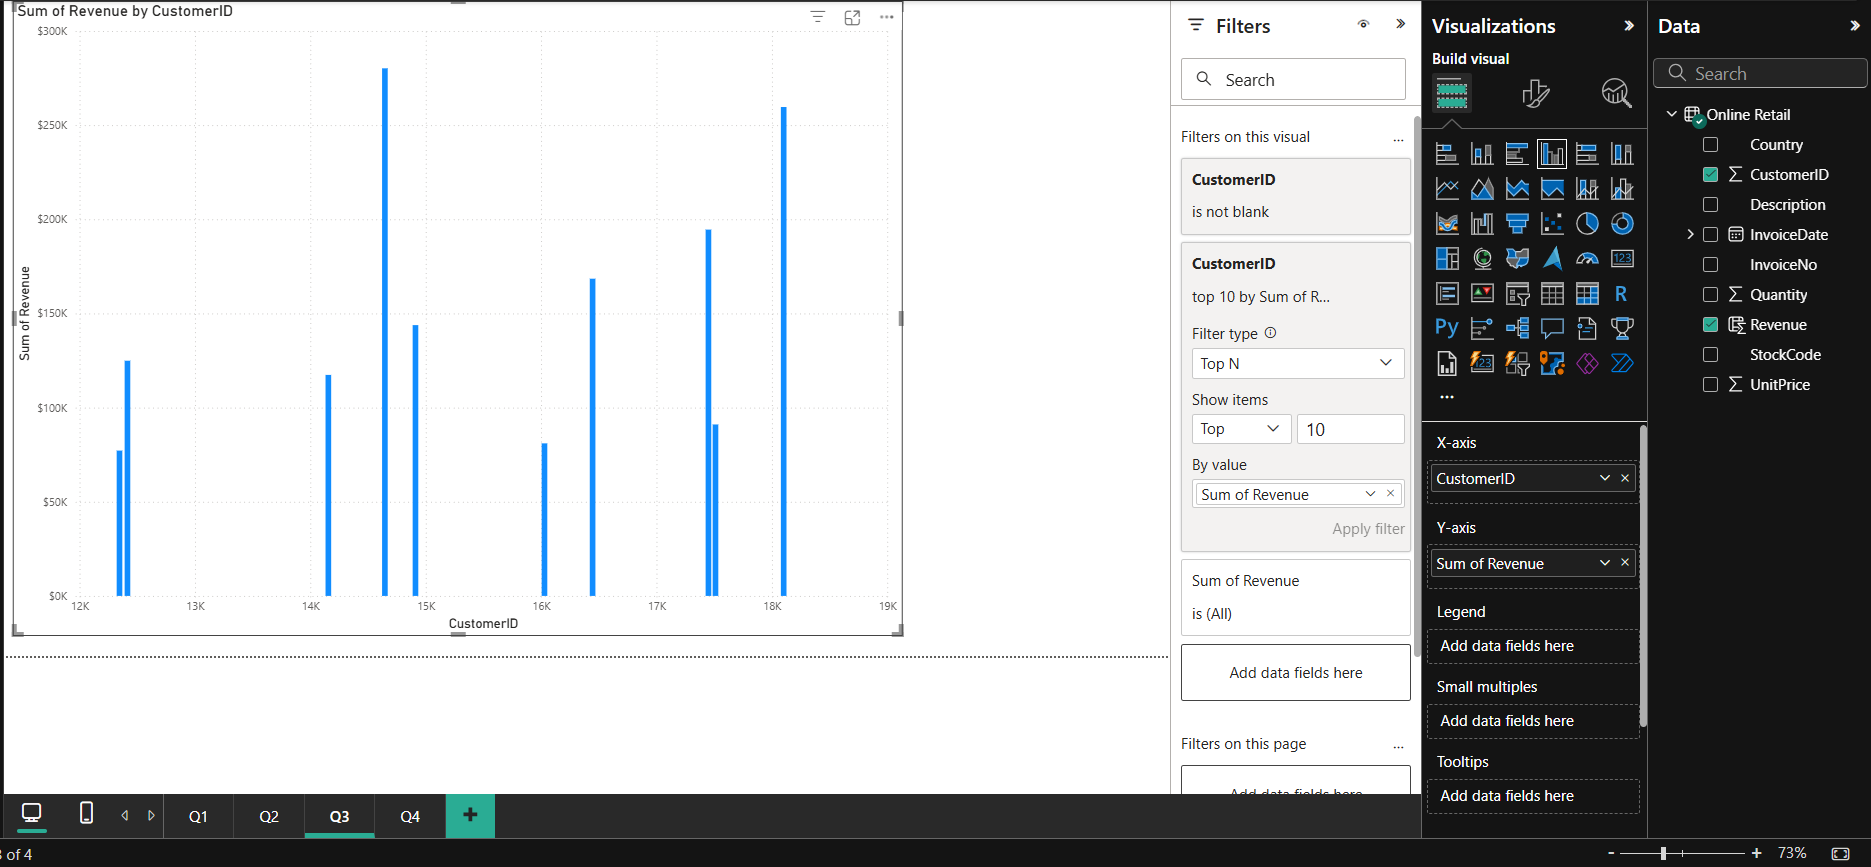

This screenshot's page, from the dashboard's own definition file:
{"tool":"powerbi","page":{"name":"Q3","canvas":[1280,720],"ordinal":2},"visuals":[{"type":"clusteredColumnChart","fields":{"Category":["Online Retail.CustomerID"],"Y":["Sum(Online Retail.Revenue)"]},"box":[9.6,0,977,697.1],"z":0}]}

Visuals, with their boxes on the page's 1280x720 design canvas (x1, y1, x2, y2). These are canvas units, not pixel positions in the 1871x867 screenshot, which may show the page scaled, cropped or inside an application window:
clusteredColumnChart - Online Retail.CustomerID x Sum(Online Retail.Revenue): bbox(10, 0, 987, 697)
